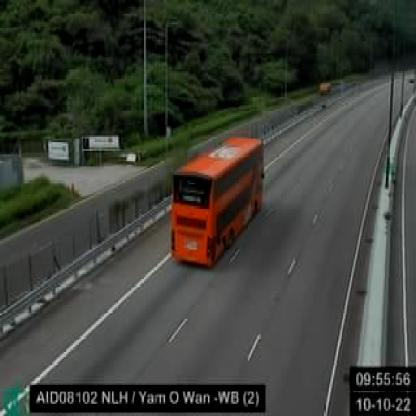Bus: (172, 130, 262, 268)
